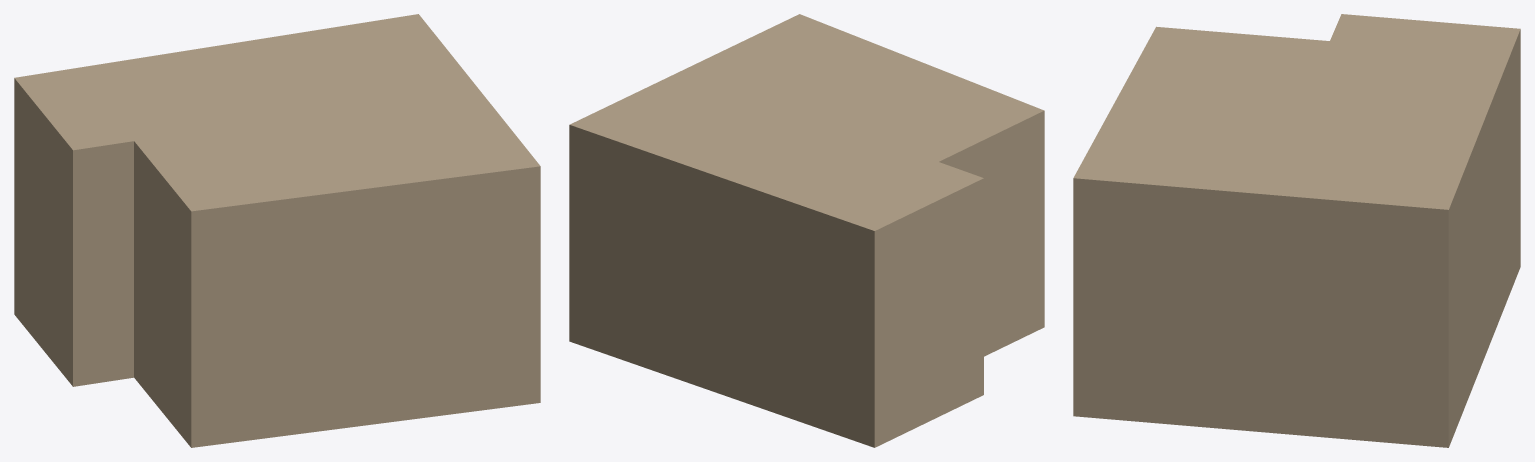
Rendered from bld_99615907.dae.
The picture shows the model from 3 angles, left to right: view 1: azimuth 30°, elevation 25°; view 2: azimuth 150°, elevation 25°; view 3: azimuth 270°, elevation 25°; orthographic projection. The views are drawn at different scales.
Visible parts, largest first — view 1: bld_99615907; view 2: bld_99615907; view 3: bld_99615907.
Boxes of the visible parts, x1,y1,x2,y2 form: bld_99615907: [14, 14, 540, 447]; bld_99615907: [569, 14, 1044, 447]; bld_99615907: [1073, 14, 1520, 447].
Bounding box in the file's own units: 14.12 × 13.62 × 8.
